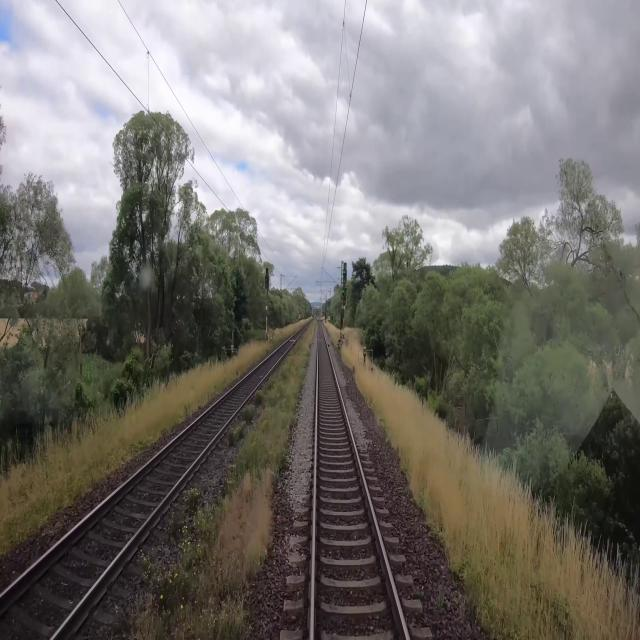Plant: (110, 319, 318, 639)
